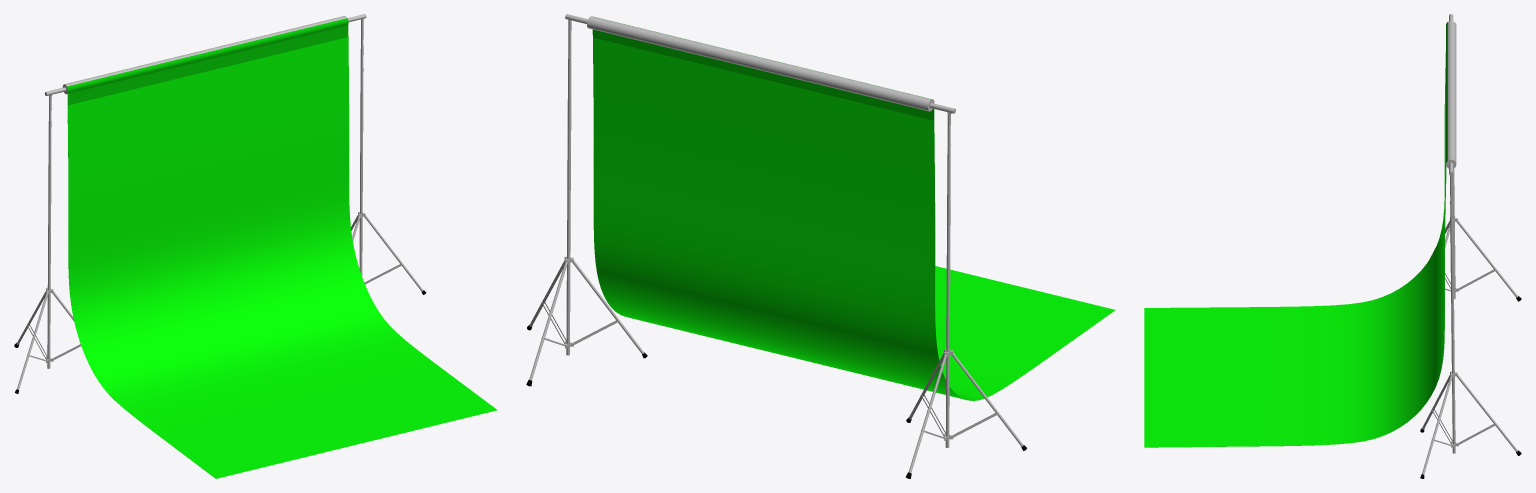
File: backdrop_green.glb
The picture shows the model from 3 angles, left to right: view 1: azimuth 30°, elevation 25°; view 2: azimuth 150°, elevation 25°; view 3: azimuth 270°, elevation 25°; orthographic projection. The views are drawn at different scales.
Visible parts, largest first — view 1: Backdrop, Object_17_Material.004_0, Object_17.001_Material.004_0, Cylinder; view 2: Backdrop, Cylinder, Object_17.001_Material.004_0, Object_17_Material.004_0; view 3: Backdrop, Object_17.001_Material.004_0, Cylinder, Object_17_Material.004_0.
Part boxes in pixels (x1,y1,x2,y2): Backdrop: [67, 18, 497, 478]; Object_17_Material.004_0: [16, 96, 81, 389]; Object_17.001_Material.004_0: [351, 18, 423, 291]; Cylinder: [62, 16, 346, 94]; Backdrop: [592, 17, 1115, 400]; Cylinder: [587, 16, 934, 111]; Object_17.001_Material.004_0: [529, 19, 644, 380]; Object_17_Material.004_0: [908, 114, 1023, 472]; Backdrop: [1144, 22, 1447, 447]; Object_17.001_Material.004_0: [1422, 176, 1517, 474]; Cylinder: [1446, 21, 1456, 168]; Object_17_Material.004_0: [1430, 168, 1517, 299].
Size of the model in its own units: 8.89 by 5.87 by 6.97.
